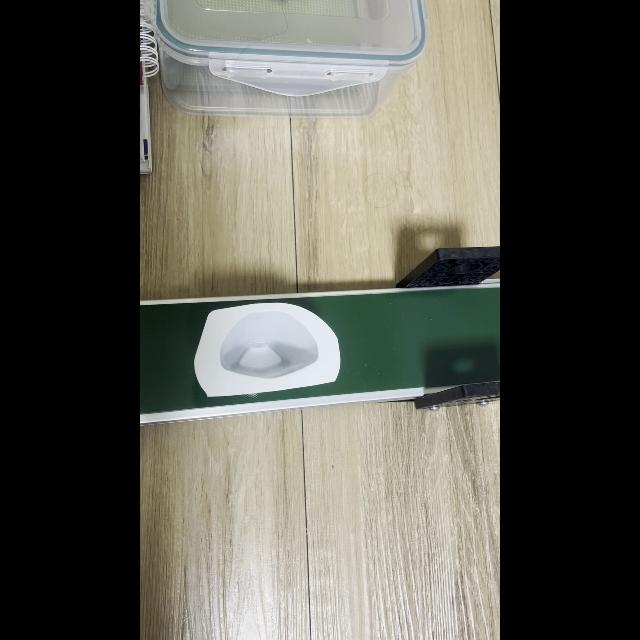clean: (195, 302, 342, 398)
